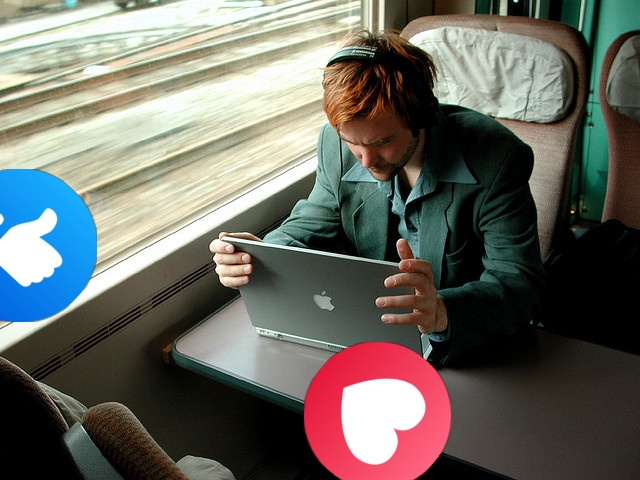like: (0, 169, 97, 322)
love: (304, 342, 451, 480)
